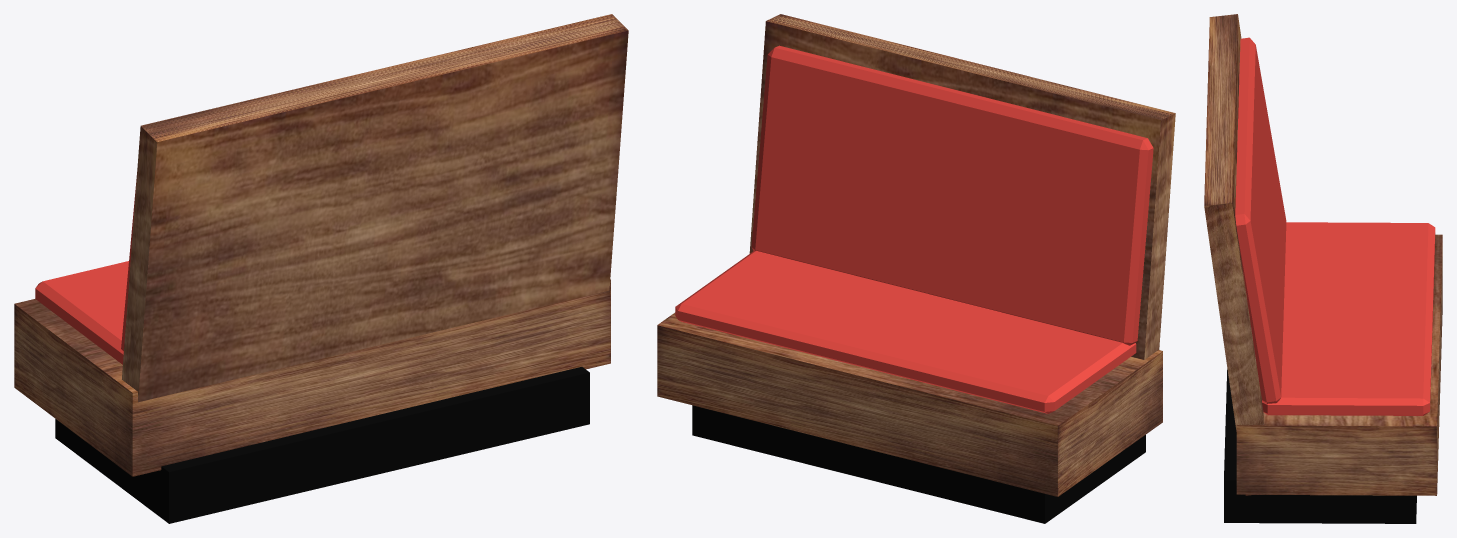
File: sillon2.obj
The picture shows the model from 3 angles, left to right: view 1: azimuth 30°, elevation 25°; view 2: azimuth 150°, elevation 25°; view 3: azimuth 270°, elevation 25°; orthographic projection. The views are drawn at different scales.
Visible parts, largest first — view 1: polySurface15; view 2: polySurface15; view 3: polySurface15.
Boxes of the visible parts, x1,y1,x2,y2 form: polySurface15: (14,14,628,523); polySurface15: (657,14,1175,523); polySurface15: (1204,14,1442,523).
Size of the model in its own units: 5.76 by 4.61 by 3.02.
3 materials, 3 textured.
